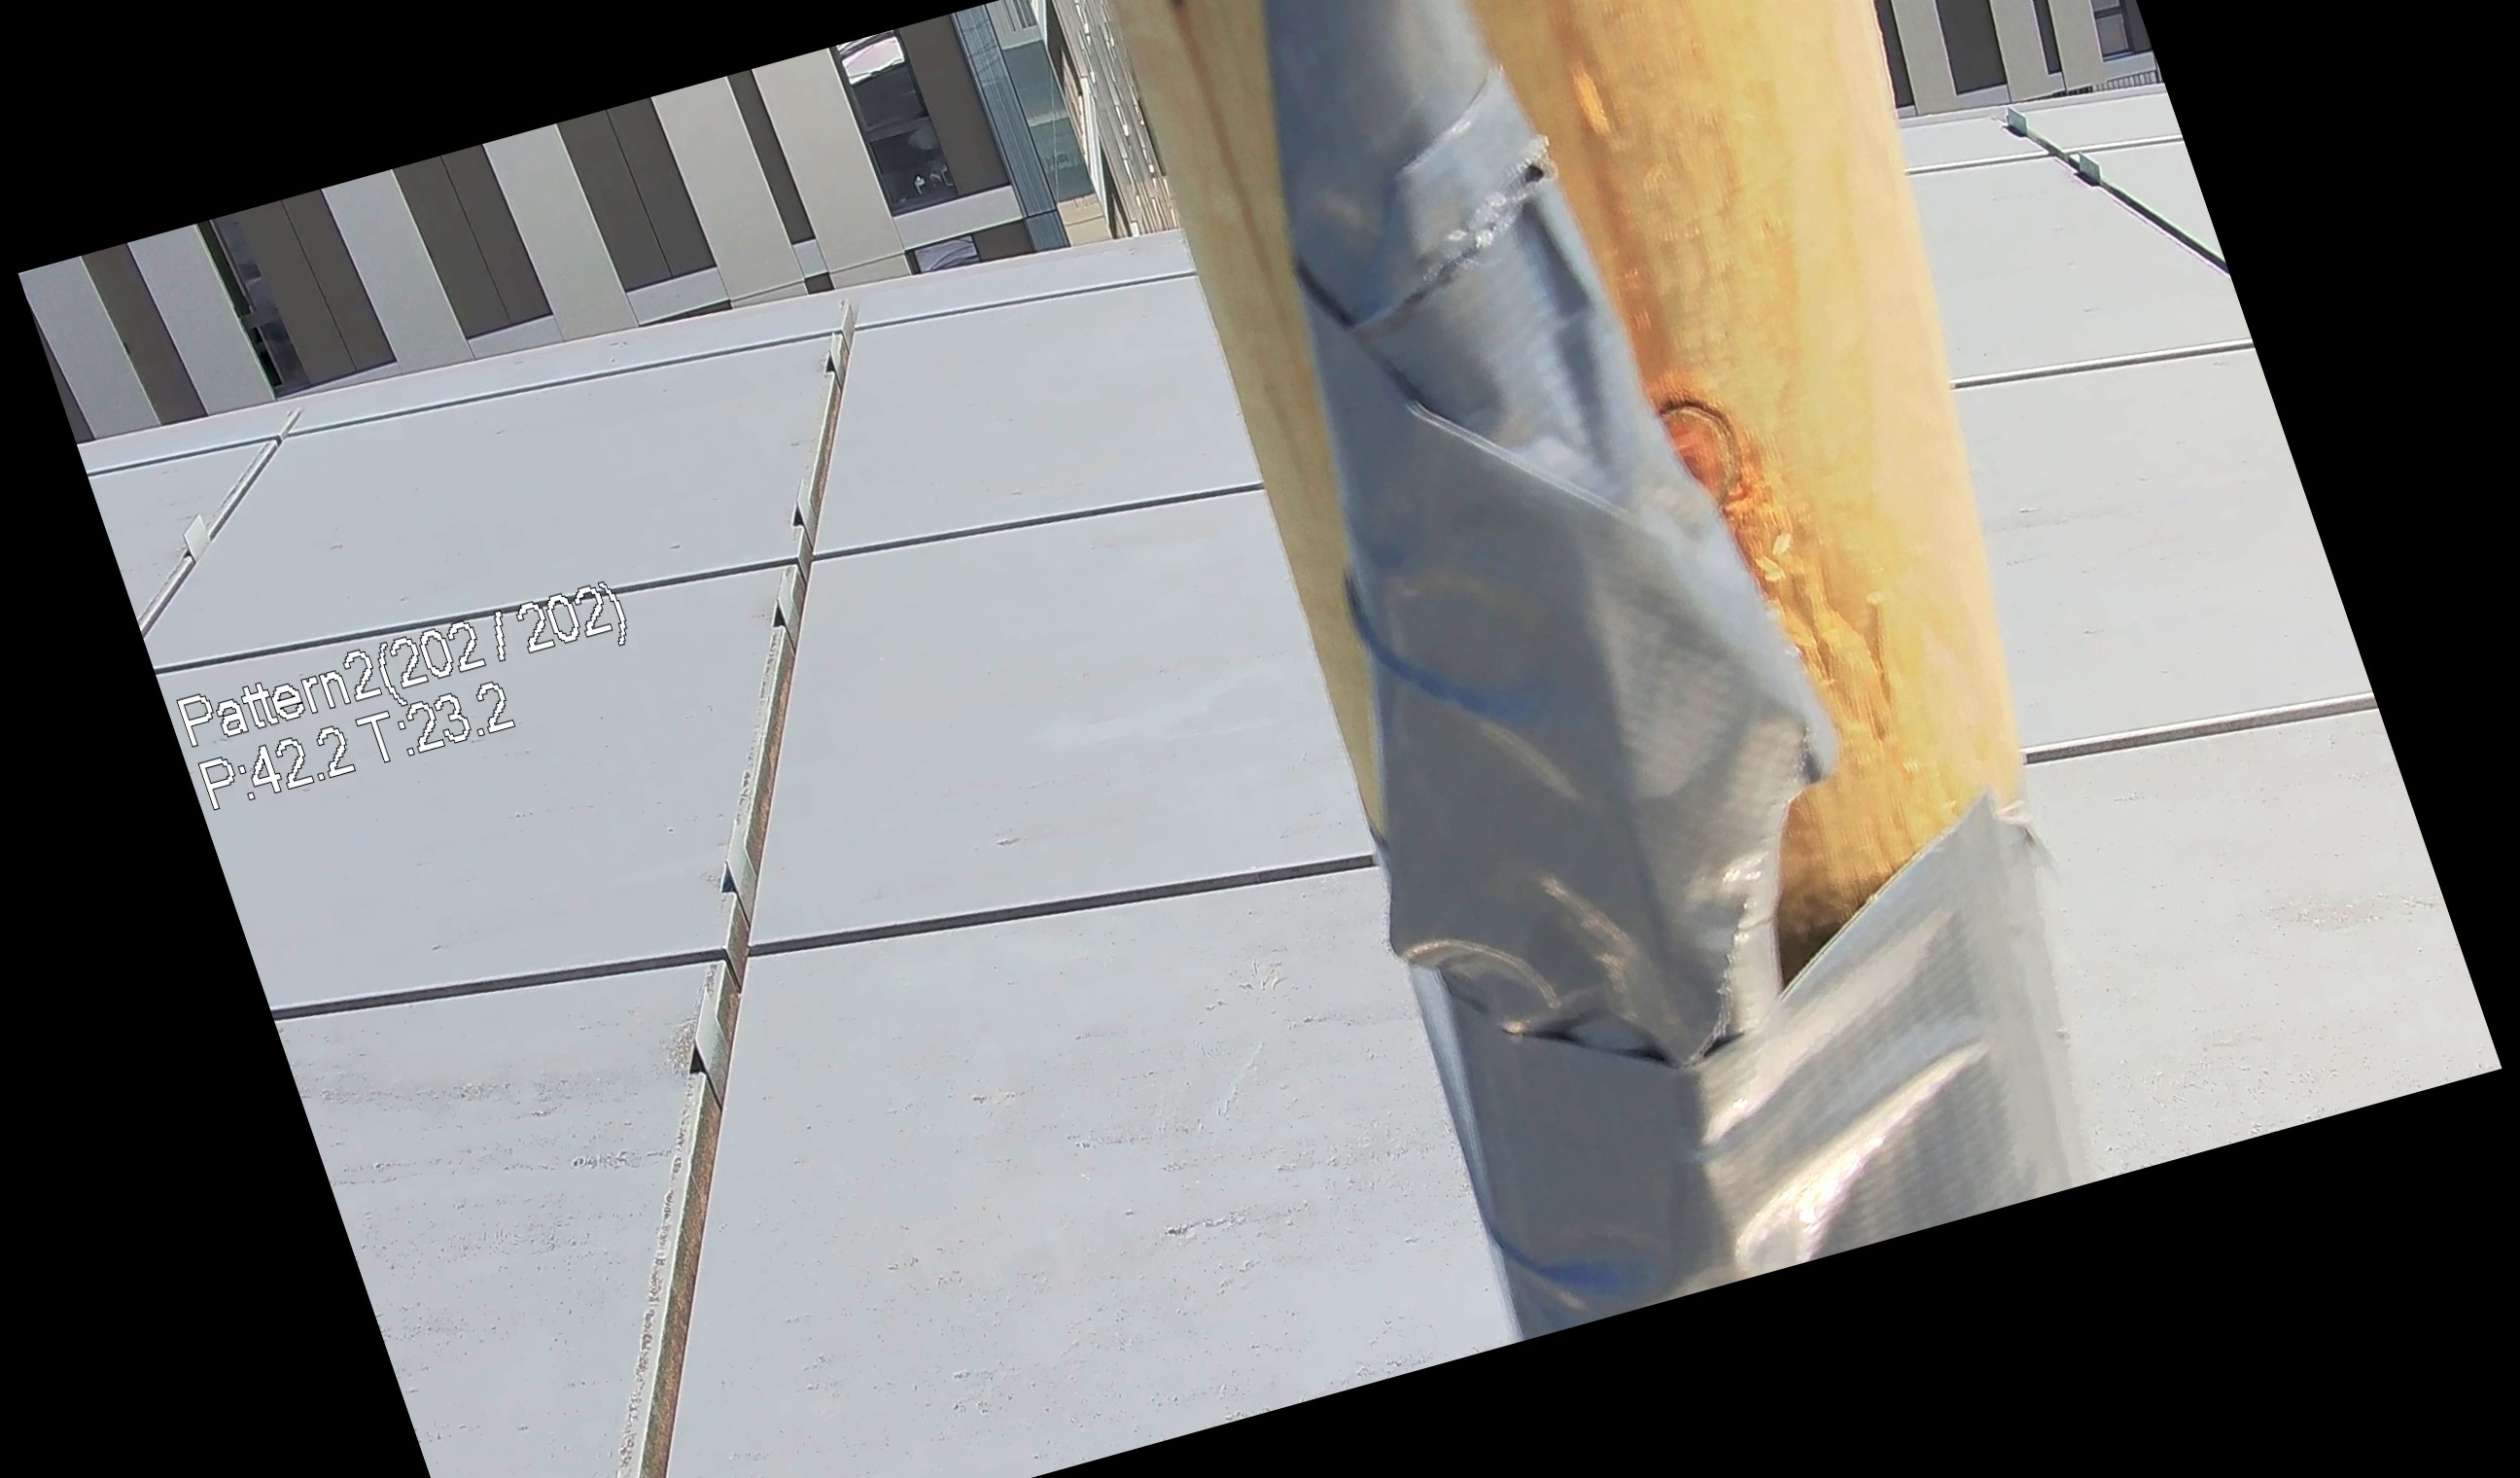Other: (1055, 0, 1984, 1223)
